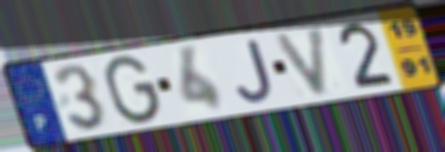2: (337, 21, 397, 92)
3: (51, 61, 111, 134)
4: (177, 41, 227, 117)
G: (102, 53, 164, 127)
J: (233, 37, 277, 105)
V: (271, 23, 329, 98)
